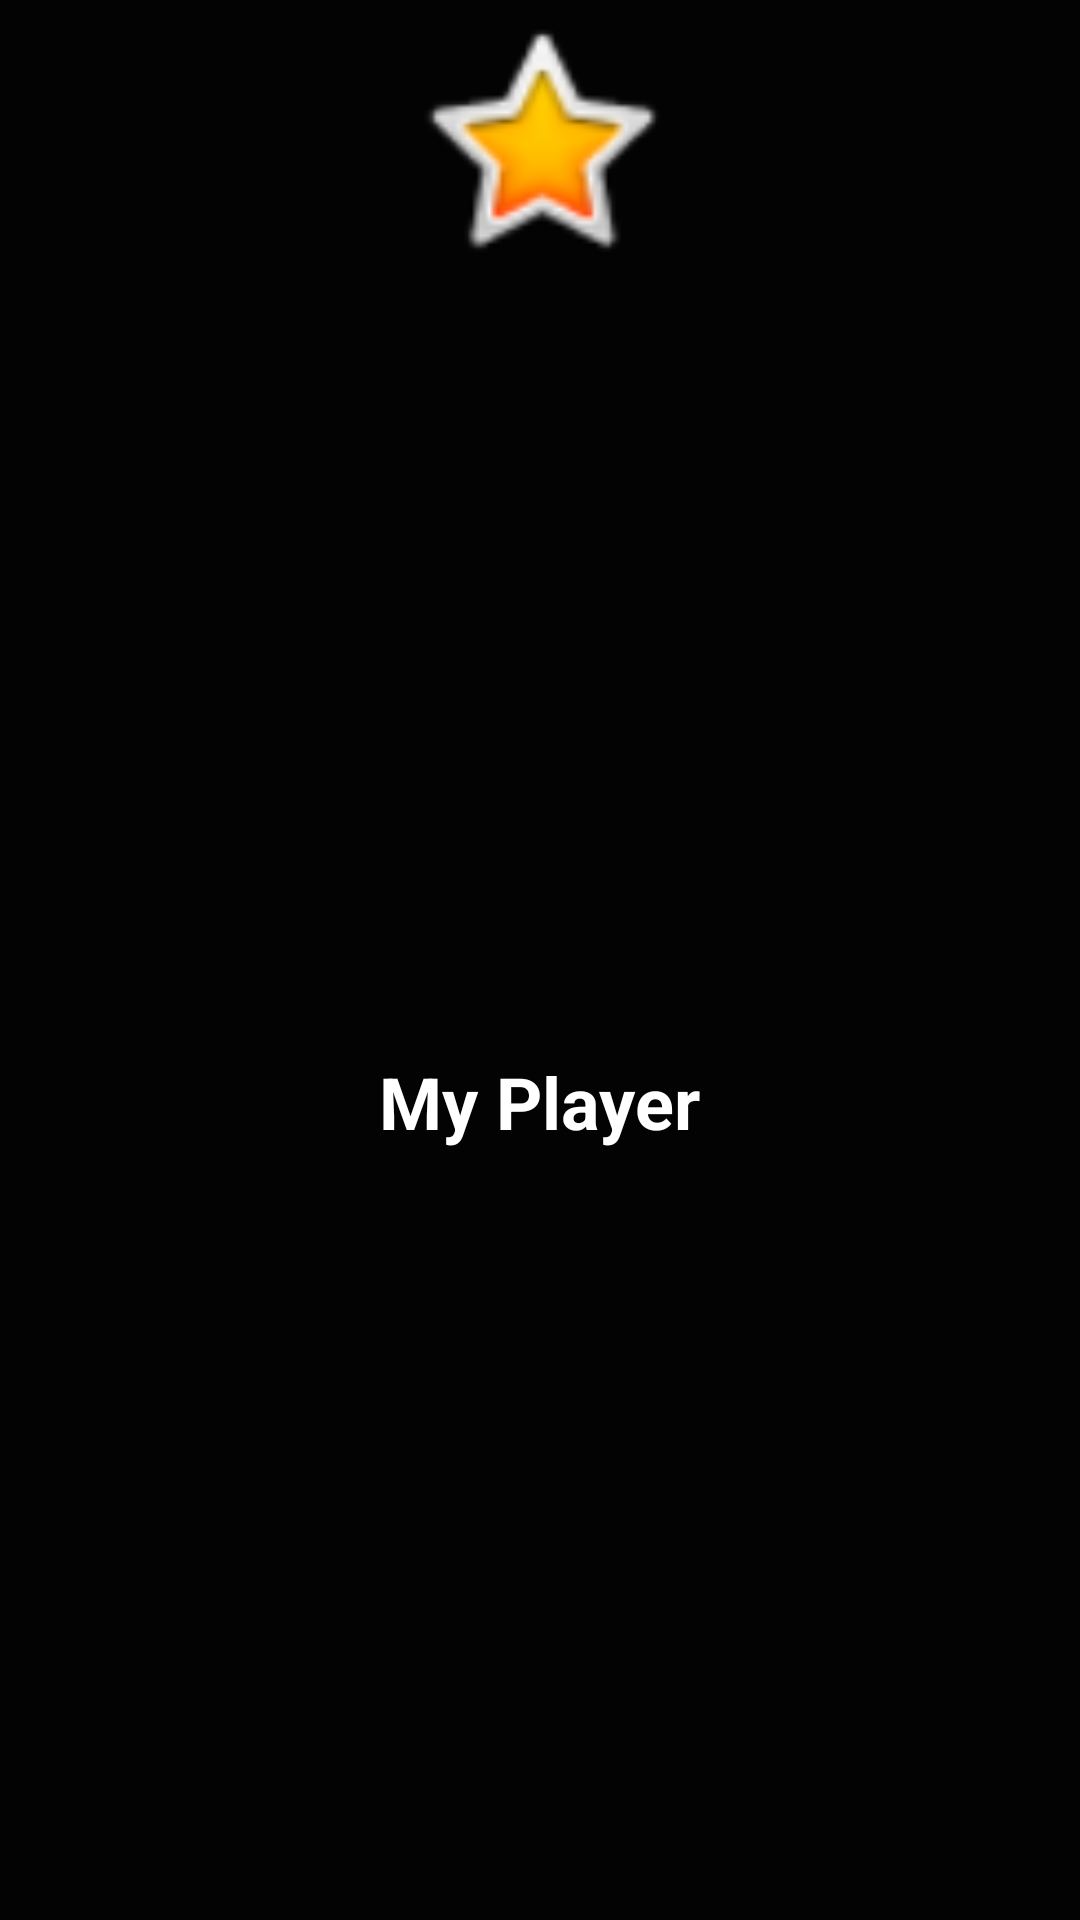

Icon bounding boxes for this 1080px×1920px phone screenshot, format bbox=[x1, y1, x2, y2]:
star on: bbox=[429, 33, 656, 248]
